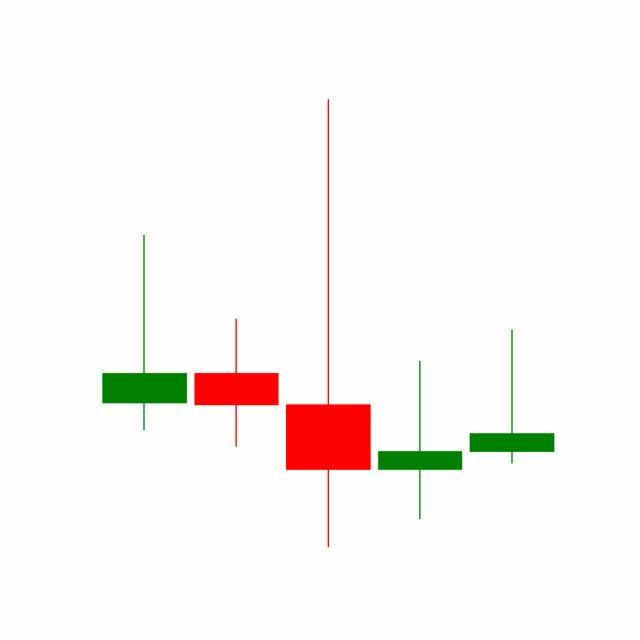Spinning Top: (374, 360, 468, 523)
